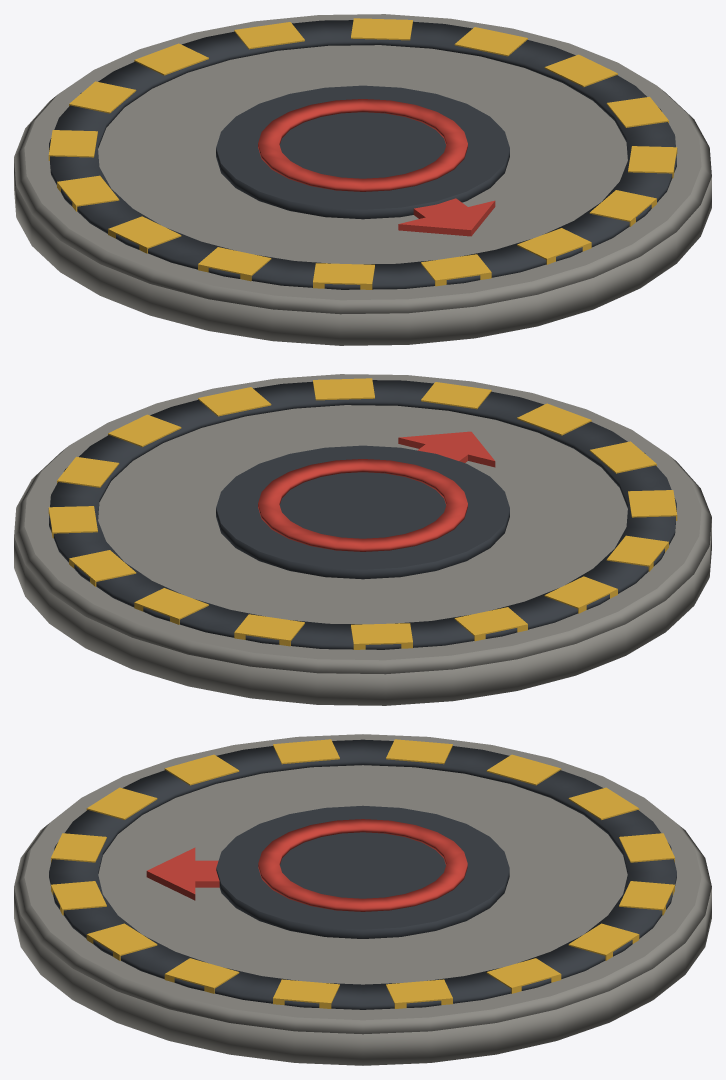
Rendered from spawn_pad.obj.
The picture shows the model from 3 angles, top to bottom: view 1: azimuth 30°, elevation 25°; view 2: azimuth 150°, elevation 25°; view 3: azimuth 270°, elevation 25°; orthographic projection.
Visible parts, largest first — view 1: spawn_pad; view 2: spawn_pad; view 3: spawn_pad.
Part boxes in pixels (bbox=[...]): spawn_pad: bbox=[14, 14, 711, 345]; spawn_pad: bbox=[14, 374, 711, 705]; spawn_pad: bbox=[14, 734, 711, 1065].
Size of the model in its own units: 2 by 0.174 by 2.
